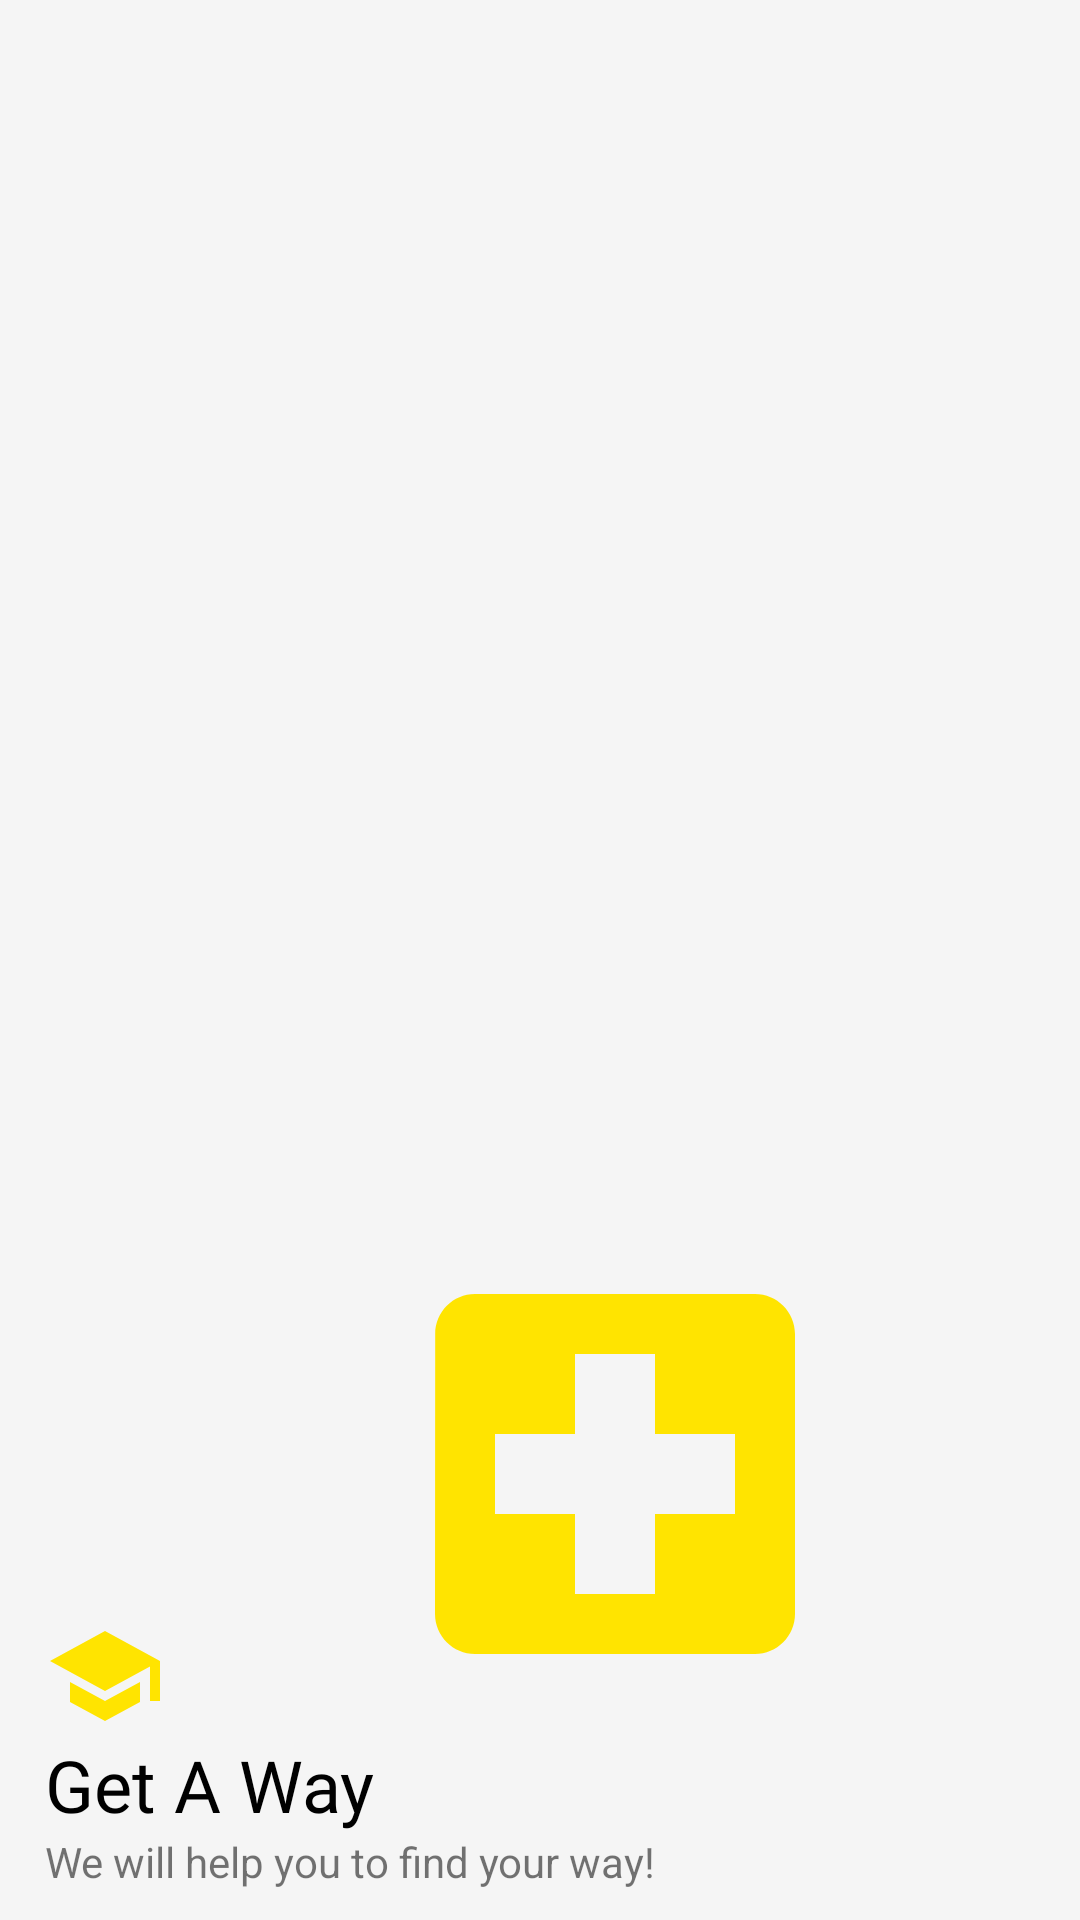

Where icons sit on this 1080px x 1920px app screen, as (x1, y1, x2, y2):
hospital: (435, 1294, 795, 1654)
school: (50, 1631, 160, 1721)
